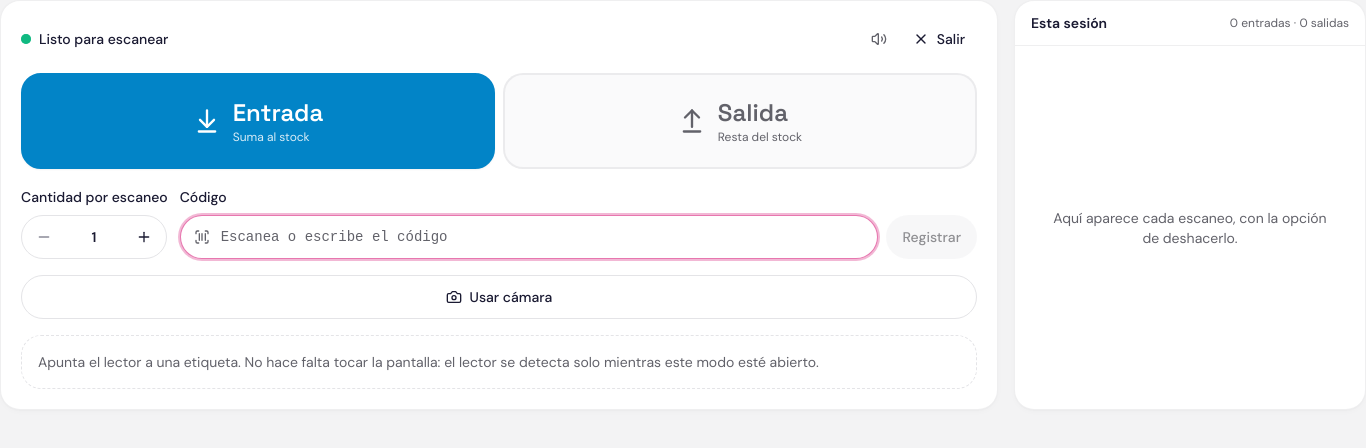
Test: InventoryScanPanel › Deshacer registra el movimiento contrario y marca la línea
This screenshot has width=1366, height=448.
Type "EMD-000001" into the field labelled "Código".
click(529, 237); type("EMD-000001")  # box [180,215,878,259]
Then press Enter
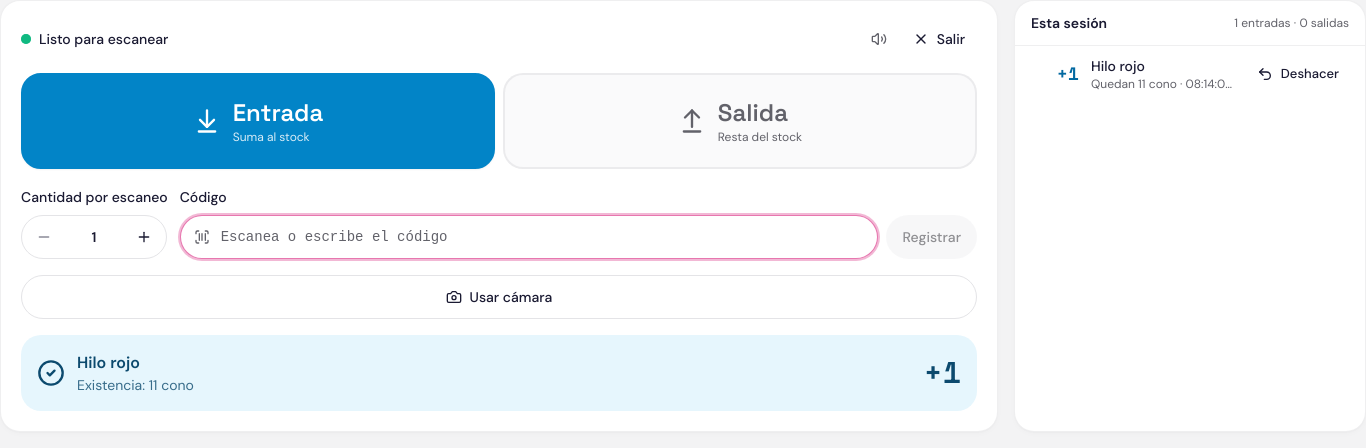
Click the button with aria-label "Deshacer +1 de Hilo rojo".
click(1298, 74)  # box [1247,58,1349,90]
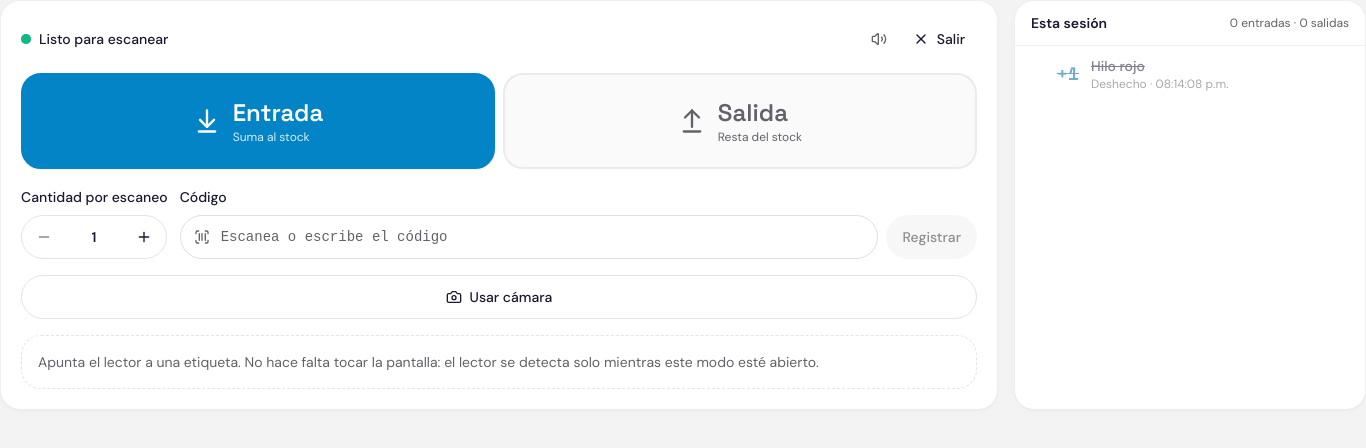
Now the text "Deshecho · 08:14:08 p.m." is shown, box [1091,76,1228,92]
Now the button "Deshacer" is gone
Now the text "0 entradas · 0 salidas" is shown, box [1230,15,1349,31]
